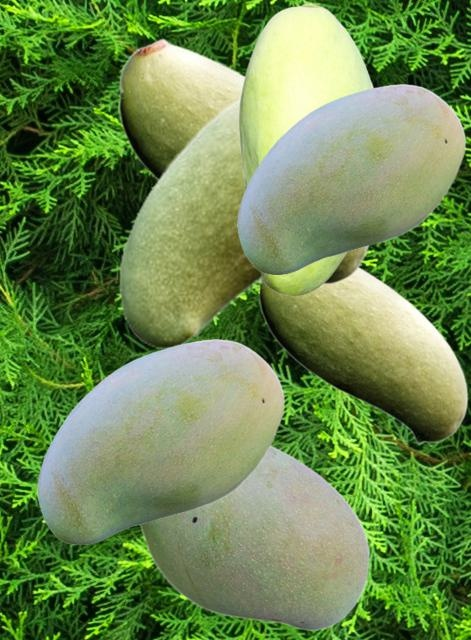green_mango: (118, 37, 370, 285), (37, 339, 284, 543), (237, 84, 465, 273), (139, 445, 369, 630), (238, 3, 375, 295), (258, 267, 467, 443), (118, 94, 262, 347)
